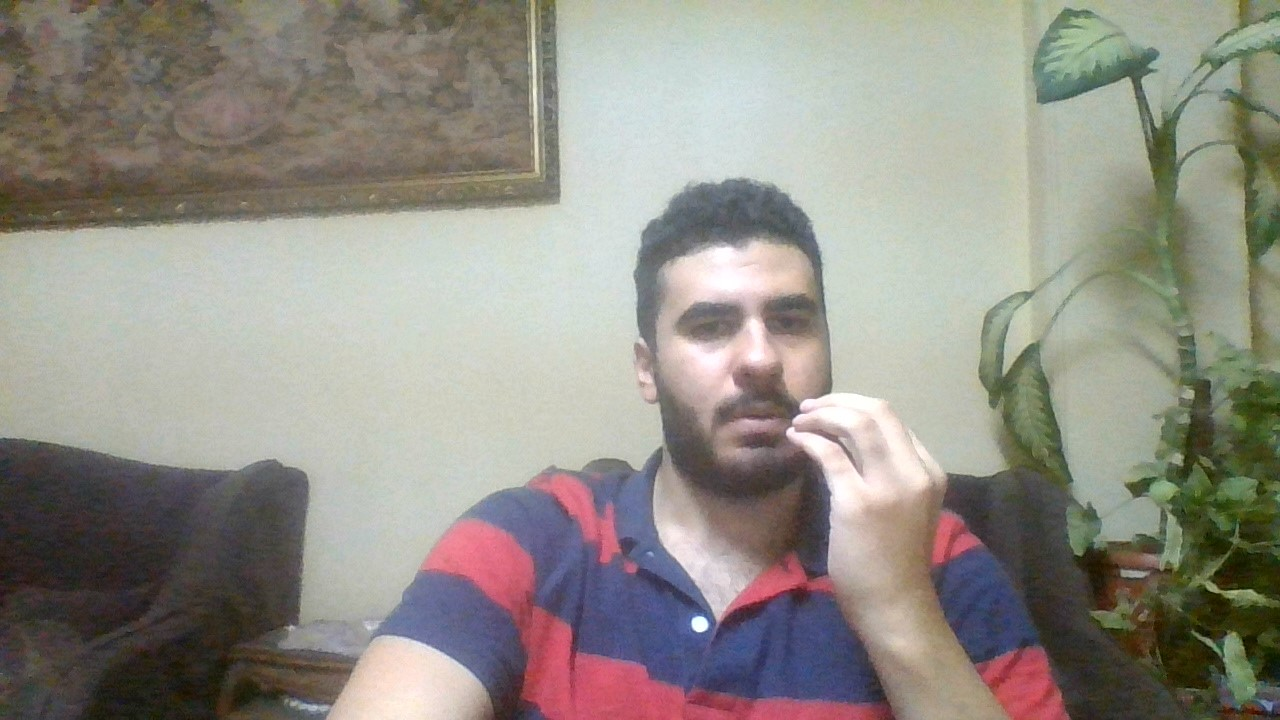eat: (779, 378, 968, 612)
